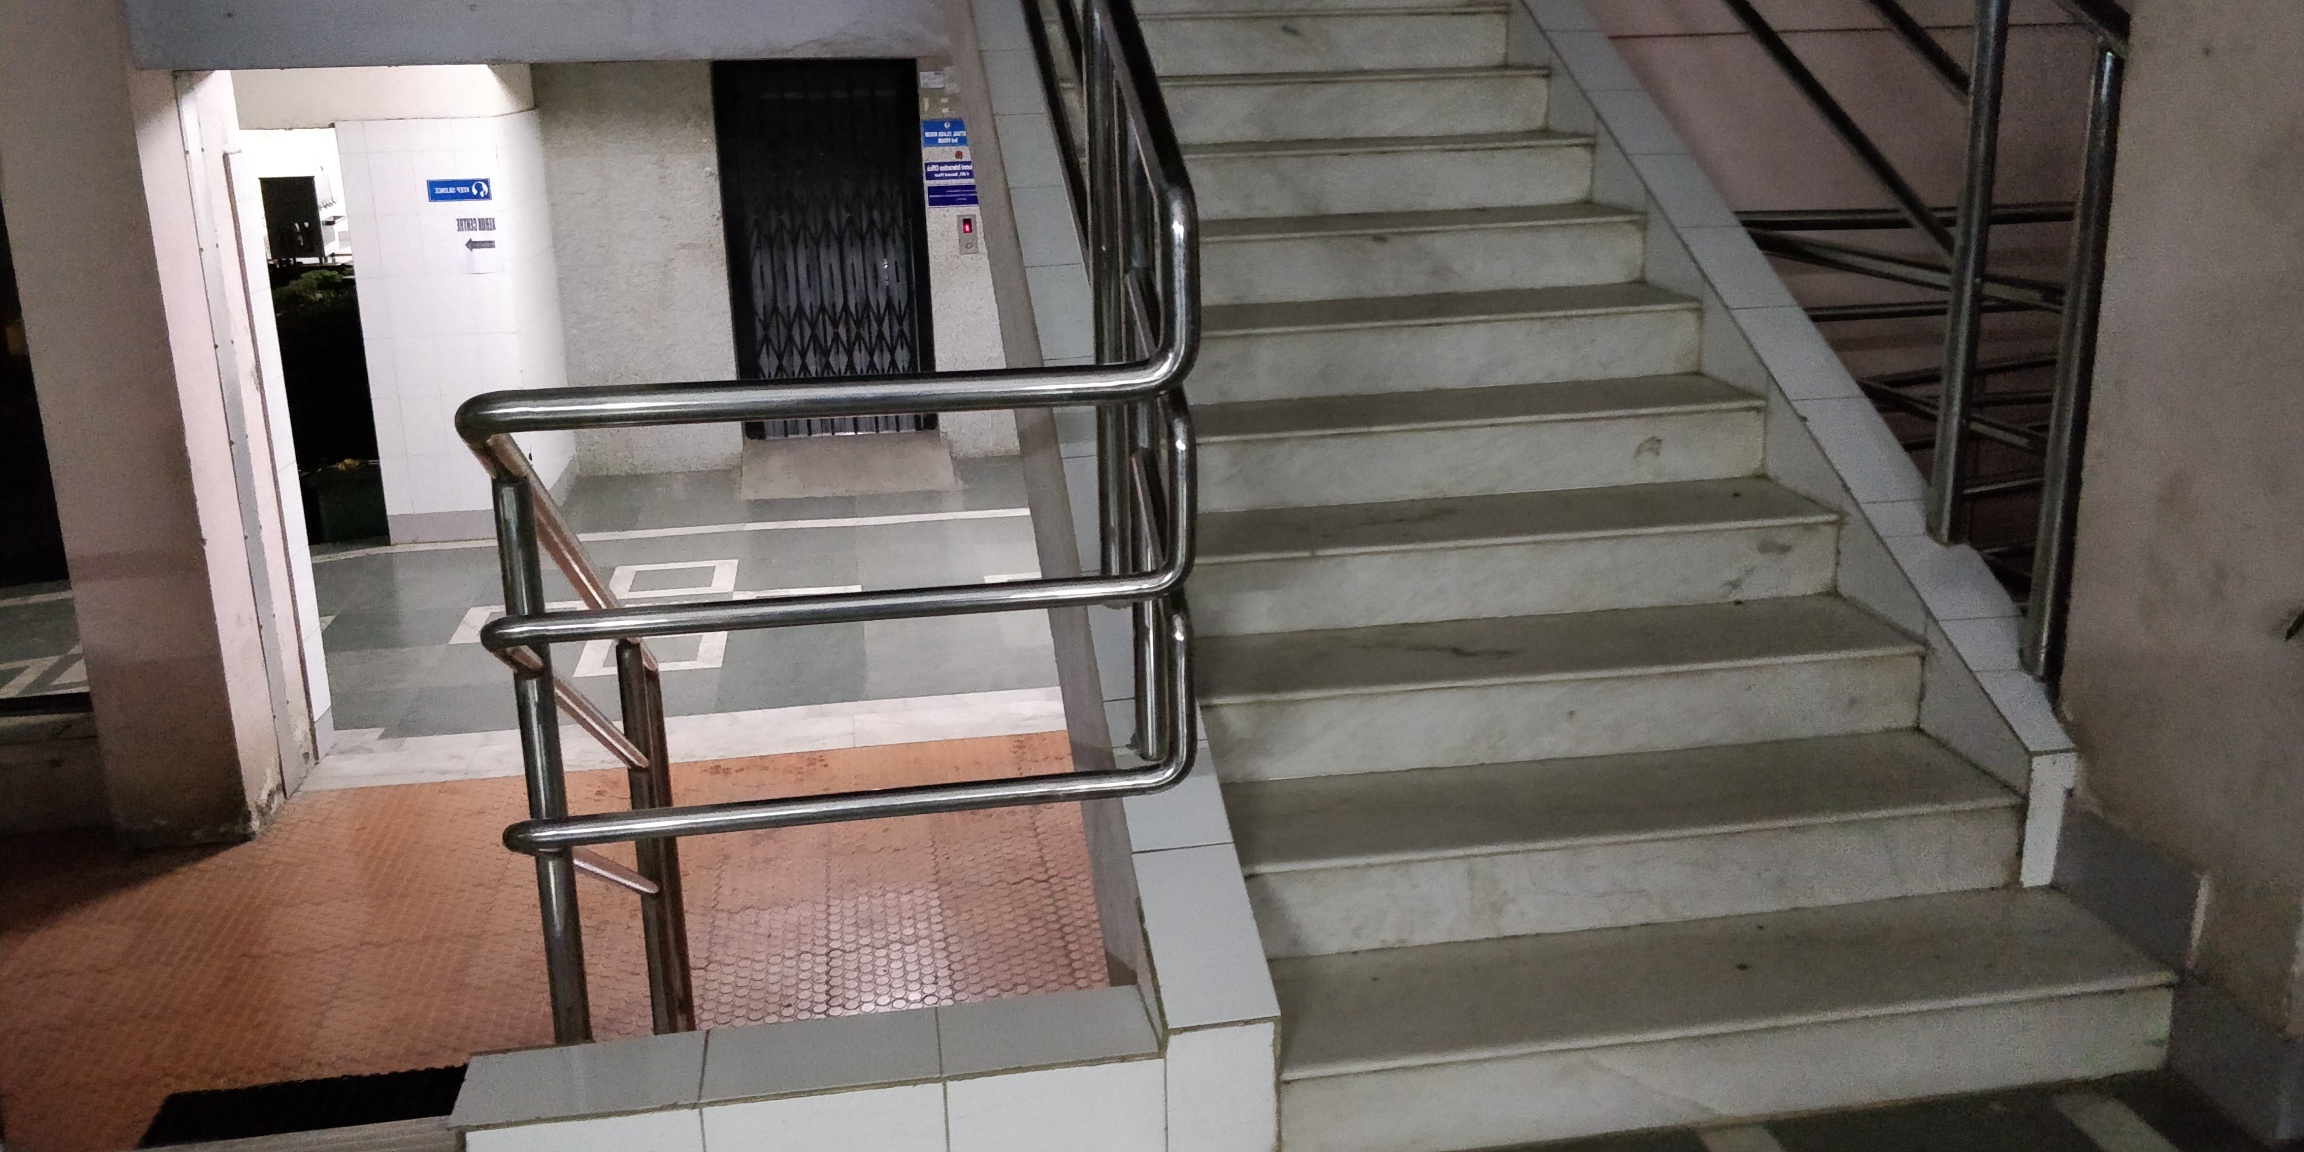stairs_up: (1081, 19, 2189, 1123)
